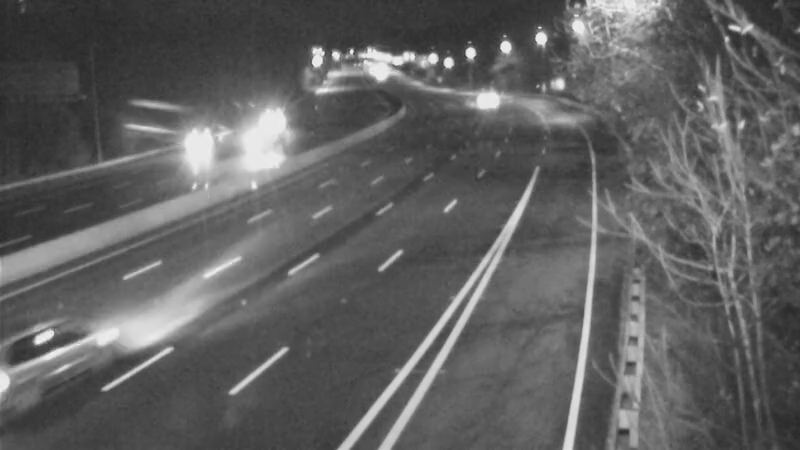vehicle: (1, 293, 108, 403), (463, 70, 513, 120), (174, 124, 224, 174), (238, 117, 288, 167), (251, 99, 301, 149)
